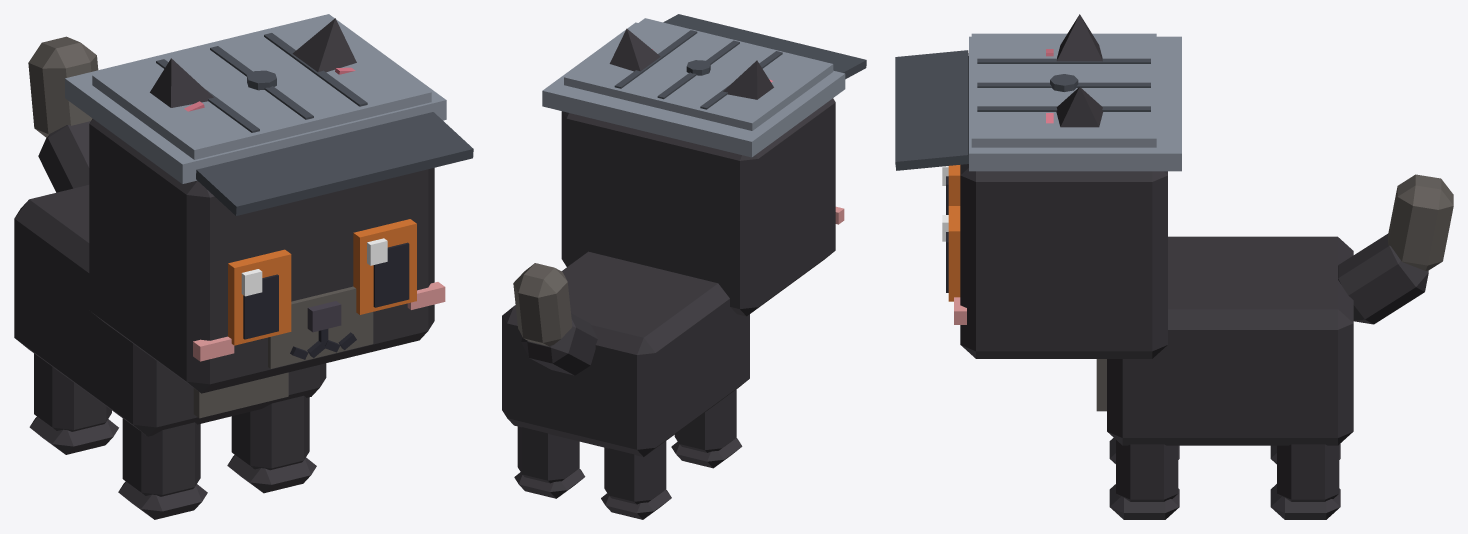
Rendered from CatCafe_Cat_Soot.fbx.
3 views of the same model, side by side, from view 1: azimuth 30°, elevation 25°; view 2: azimuth 150°, elevation 25°; view 3: azimuth 270°, elevation 25° (orthographic). The views are drawn at different scales.
Parts seen in each view (by area): view 1: CatCafe_Cat_Soot_Head, CatCafe_Cat_Soot_Prop, CatCafe_Cat_Soot_Body, CatCafe_Cat_Soot_Tail, CatCafe_Cat_Soot_LegF2, CatCafe_Cat_Soot_LegF1, CatCafe_Cat_Soot_Eye2, CatCafe_Cat_Soot_Eye1, CatCafe_Cat_Soot_LegB2, CatCafe_Cat_Soot_EarL, CatCafe_Cat_Soot_EarR; view 2: CatCafe_Cat_Soot_Head, CatCafe_Cat_Soot_Body, CatCafe_Cat_Soot_Prop, CatCafe_Cat_Soot_Tail, CatCafe_Cat_Soot_LegB2, CatCafe_Cat_Soot_LegB1, CatCafe_Cat_Soot_LegF2, CatCafe_Cat_Soot_EarL, CatCafe_Cat_Soot_EarR; view 3: CatCafe_Cat_Soot_Body, CatCafe_Cat_Soot_Head, CatCafe_Cat_Soot_Prop, CatCafe_Cat_Soot_Tail, CatCafe_Cat_Soot_LegF1, CatCafe_Cat_Soot_LegB1, CatCafe_Cat_Soot_EarL, CatCafe_Cat_Soot_Eye1, CatCafe_Cat_Soot_EarR, CatCafe_Cat_Soot_Eye2.
Boxes of the visible parts, x1=… form: CatCafe_Cat_Soot_Head: x1=89, y1=118, x2=445, y2=393; CatCafe_Cat_Soot_Prop: x1=65, y1=14, x2=473, y2=215; CatCafe_Cat_Soot_Body: x1=14, y1=185, x2=326, y2=436; CatCafe_Cat_Soot_Tail: x1=28, y1=36, x2=98, y2=192; CatCafe_Cat_Soot_LegF2: x1=118, y1=418, x2=207, y2=519; CatCafe_Cat_Soot_LegF1: x1=227, y1=395, x2=316, y2=493; CatCafe_Cat_Soot_Eye2: x1=228, y1=249, x2=291, y2=345; CatCafe_Cat_Soot_Eye1: x1=353, y1=219, x2=416, y2=314; CatCafe_Cat_Soot_LegB2: x1=29, y1=353, x2=118, y2=454; CatCafe_Cat_Soot_EarL: x1=292, y1=18, x2=356, y2=74; CatCafe_Cat_Soot_EarR: x1=150, y1=58, x2=213, y2=111; CatCafe_Cat_Soot_Head: x1=561, y1=98, x2=844, y2=316; CatCafe_Cat_Soot_Body: x1=502, y1=251, x2=749, y2=456; CatCafe_Cat_Soot_Prop: x1=542, y1=14, x2=866, y2=157; CatCafe_Cat_Soot_Tail: x1=513, y1=263, x2=597, y2=375; CatCafe_Cat_Soot_LegB2: x1=601, y1=441, x2=671, y2=519; CatCafe_Cat_Soot_LegB1: x1=514, y1=426, x2=585, y2=498; CatCafe_Cat_Soot_LegF2: x1=671, y1=389, x2=742, y2=468; CatCafe_Cat_Soot_EarL: x1=609, y1=28, x2=660, y2=71; CatCafe_Cat_Soot_EarR: x1=723, y1=60, x2=773, y2=99; CatCafe_Cat_Soot_Body: x1=1096, y1=236, x2=1353, y2=445; CatCafe_Cat_Soot_Head: x1=954, y1=164, x2=1167, y2=358; CatCafe_Cat_Soot_Prop: x1=895, y1=33, x2=1181, y2=171; CatCafe_Cat_Soot_Tail: x1=1338, y1=174, x2=1453, y2=324; CatCafe_Cat_Soot_LegF1: x1=1109, y1=440, x2=1179, y2=519; CatCafe_Cat_Soot_LegB1: x1=1270, y1=444, x2=1340, y2=519; CatCafe_Cat_Soot_EarL: x1=1046, y1=87, x2=1102, y2=127; CatCafe_Cat_Soot_Eye1: x1=942, y1=206, x2=960, y2=301; CatCafe_Cat_Soot_EarR: x1=1046, y1=14, x2=1102, y2=61; CatCafe_Cat_Soot_Eye2: x1=942, y1=165, x2=960, y2=214.
Size of the model in its own units: 1.07 by 1.86 by 2.15.
Materials: 1 (1 with a texture image).
